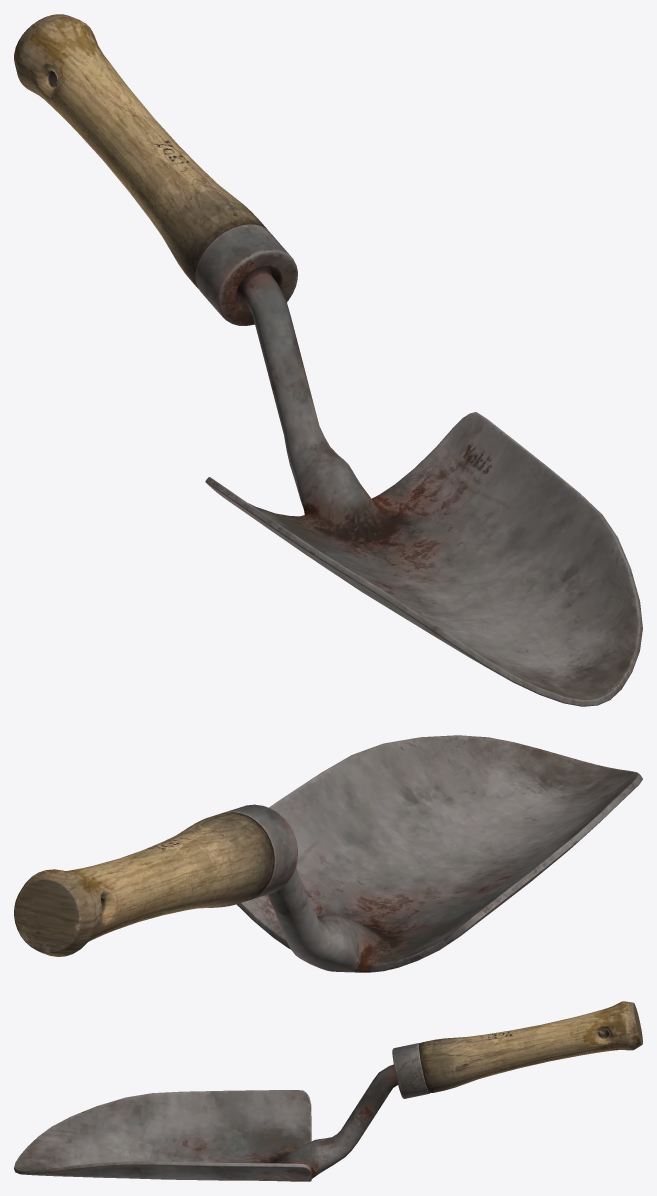
The model's file is trowel_01.glb.
3 views of the same model, one above another, from view 1: azimuth 30°, elevation 25°; view 2: azimuth 150°, elevation 25°; view 3: azimuth 270°, elevation 25° (orthographic). The views are drawn at different scales.
Parts seen in each view (by area): view 1: trowel_01; view 2: trowel_01; view 3: trowel_01.
Boxes of the visible parts, x1,y1,x2,y2 form: trowel_01: (14,14,642,706); trowel_01: (14,735,642,972); trowel_01: (14,1001,642,1181).
Size of the model in its own units: 0.0991 by 0.1026 by 0.3469.
1 material, 1 textured.
